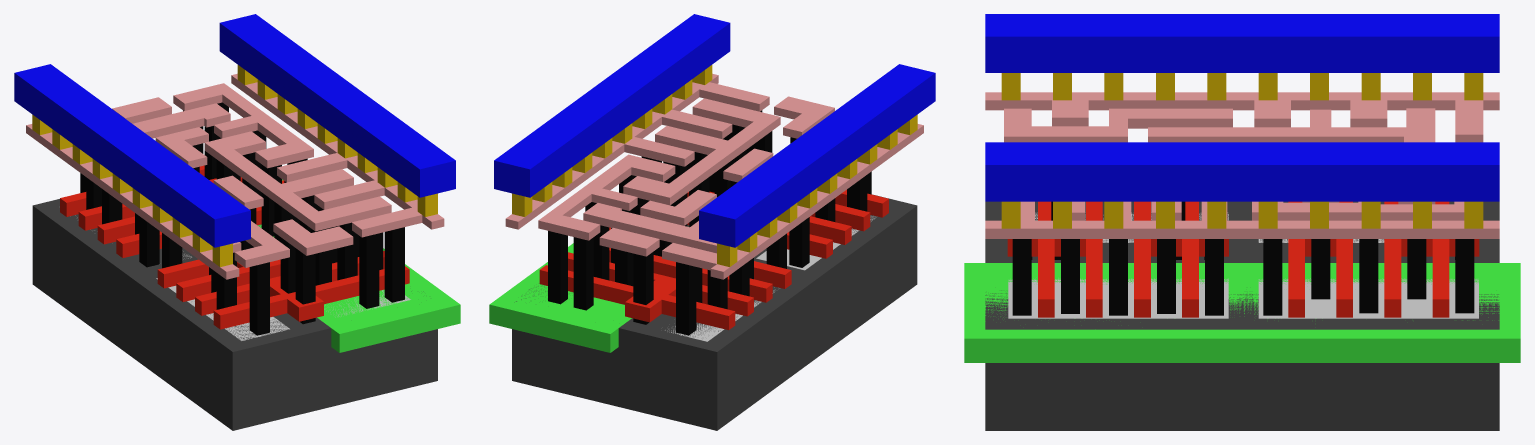
The model's file is sky130_fd_sc_hd__a211oi_2.obj.
The picture shows the model from 3 angles, left to right: view 1: azimuth 30°, elevation 25°; view 2: azimuth 150°, elevation 25°; view 3: azimuth 270°, elevation 25°; orthographic projection. The views are drawn at different scales.
Parts seen in each view (by area): view 1: subs, metal1, li, licon, poly, nwell, mcon, diff; view 2: subs, metal1, li, licon, poly, nwell, mcon, diff; view 3: metal1, subs, li, nwell, licon, poly, mcon, tap.
Boxes of the visible parts, <box> form: subs: <box>32,199,437,430</box>; metal1: <box>14,14,455,247</box>; li: <box>26,73,444,279</box>; licon: <box>80,102,404,335</box>; poly: <box>60,165,409,329</box>; nwell: <box>258,179,460,352</box>; mcon: <box>32,65,437,266</box>; diff: <box>75,215,289,340</box>; subs: <box>512,194,917,430</box>; metal1: <box>494,14,935,247</box>; li: <box>505,73,923,279</box>; licon: <box>548,110,871,335</box>; poly: <box>539,189,888,330</box>; nwell: <box>489,243,631,352</box>; mcon: <box>512,65,917,266</box>; diff: <box>665,216,876,341</box>; metal1: <box>985,14,1499,201</box>; subs: <box>985,201,1499,430</box>; li: <box>985,92,1499,238</box>; nwell: <box>964,263,1520,362</box>; licon: <box>1012,201,1474,315</box>; poly: <box>1007,201,1479,317</box>; mcon: <box>1001,73,1483,228</box>; tap: <box>1008,278,1478,318</box>.
Bounding box in the file's own units: 3.2 × 2.74 × 4.98.
